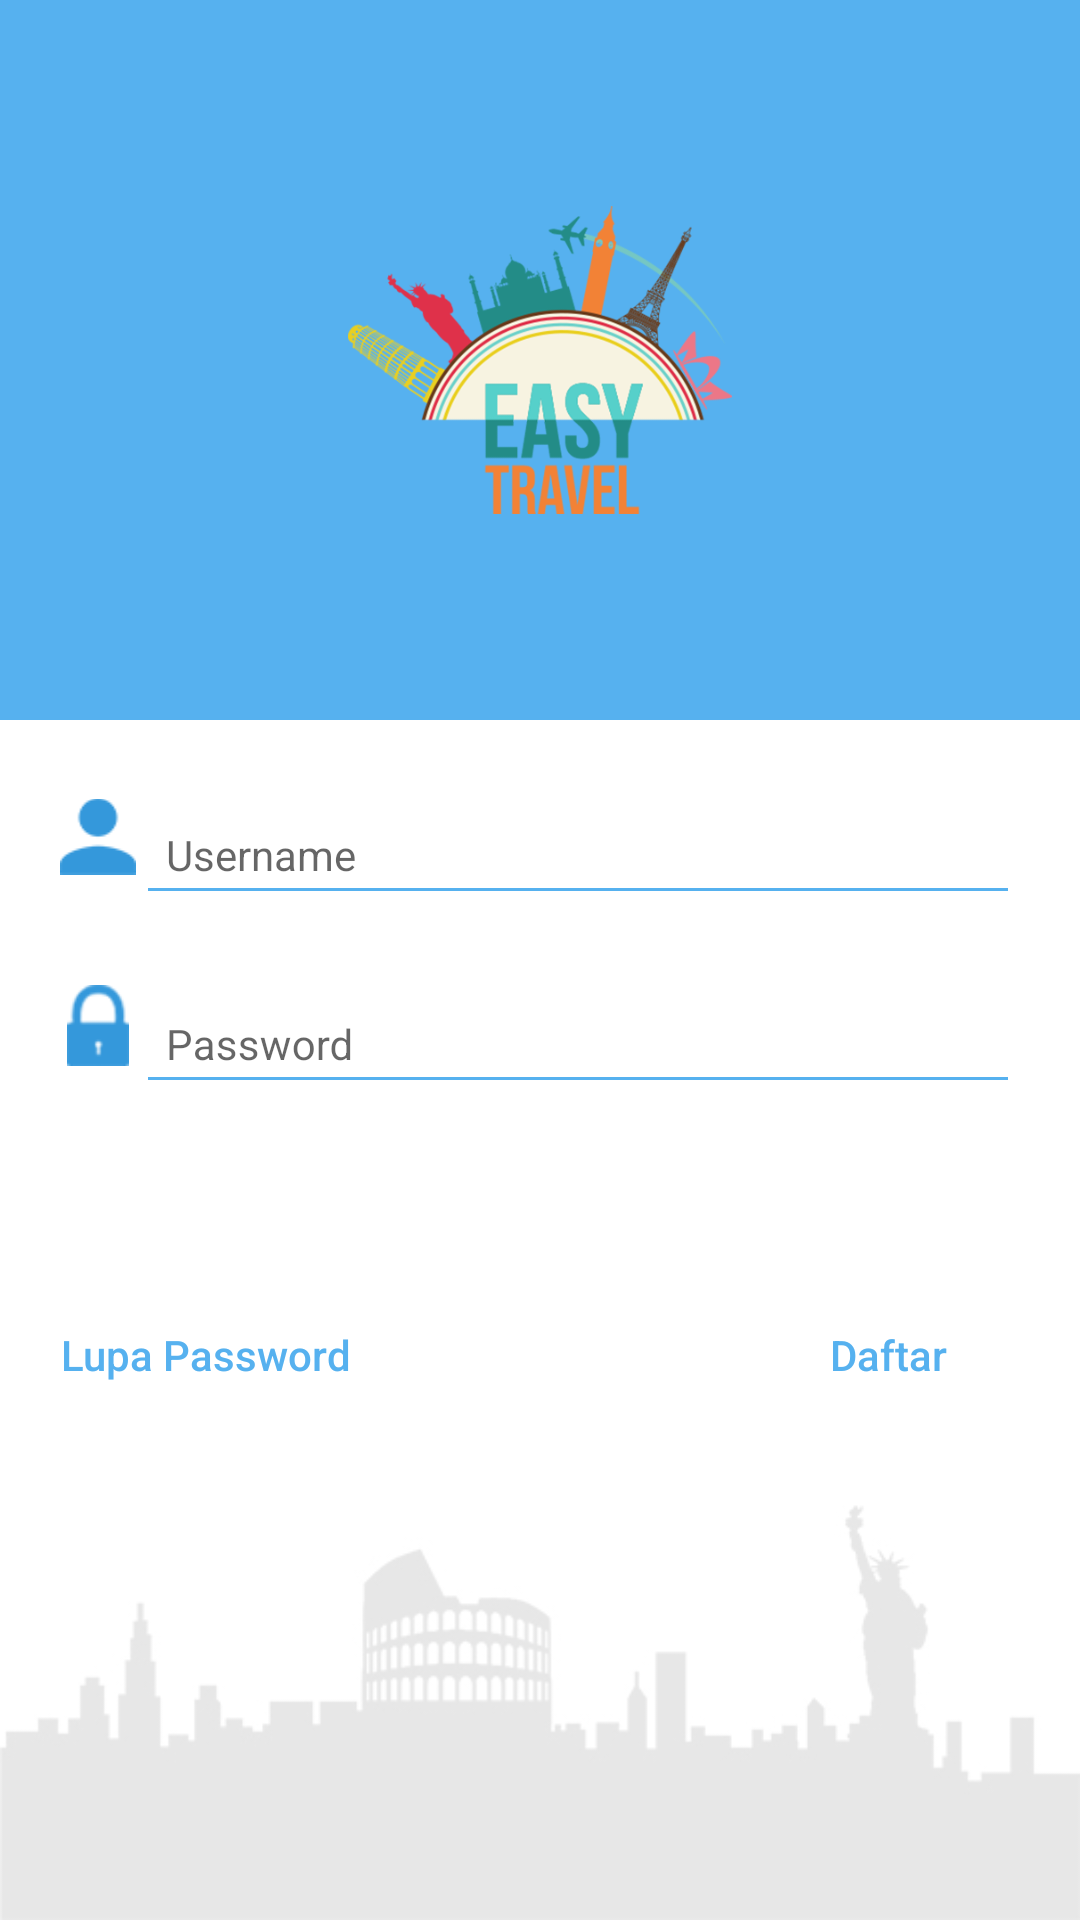

Locate icon controls on the screen. Image size 1080px×1920px, boxes as BBox(x1, y1, x2, y2).
login pw: BBox(67, 985, 129, 1066)
login user: BBox(60, 799, 136, 875)
